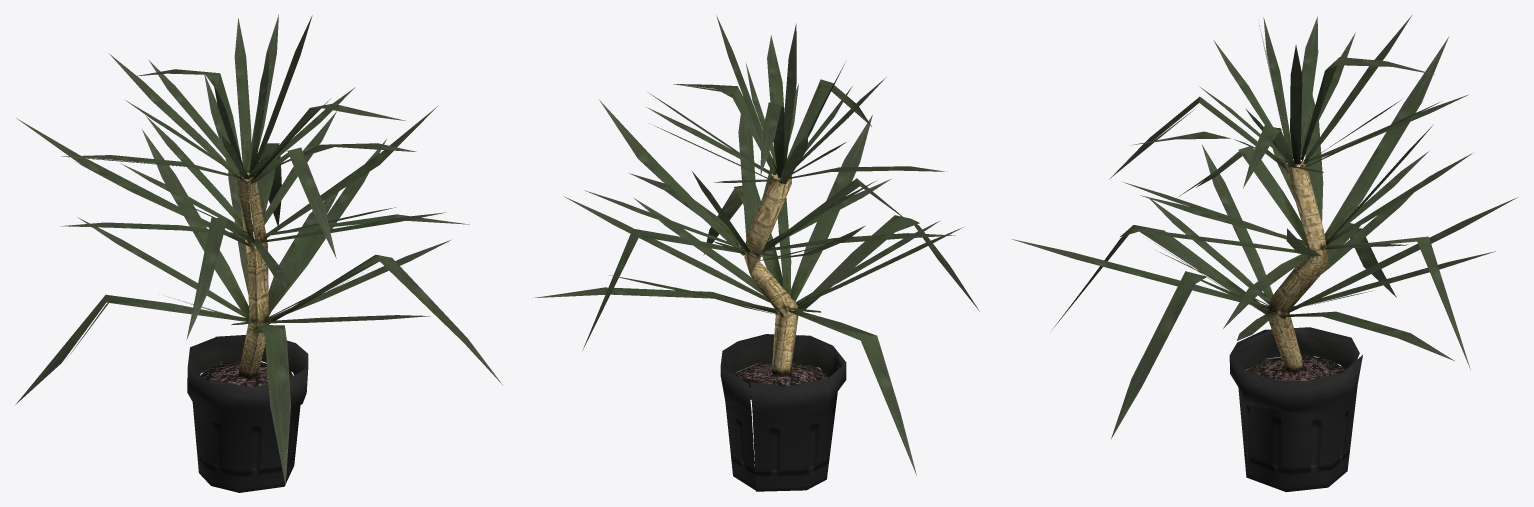
The picture shows the model from 3 angles, left to right: view 1: azimuth 30°, elevation 25°; view 2: azimuth 150°, elevation 25°; view 3: azimuth 270°, elevation 25°; orthographic projection. The views are drawn at different scales.
Visible parts, largest first — view 1: 10461_Yucca_Plant_v1.001; view 2: 10461_Yucca_Plant_v1.001; view 3: 10461_Yucca_Plant_v1.001.
Part boxes in pixels (x1,y1,x2,y2): 10461_Yucca_Plant_v1.001: (15,14,502,492); 10461_Yucca_Plant_v1.001: (532,15,979,491); 10461_Yucca_Plant_v1.001: (1011,15,1517,492).
Bounding box in the file's own units: 12.54 × 14.22 × 14.28.
Materials: 1 (1 with a texture image).
